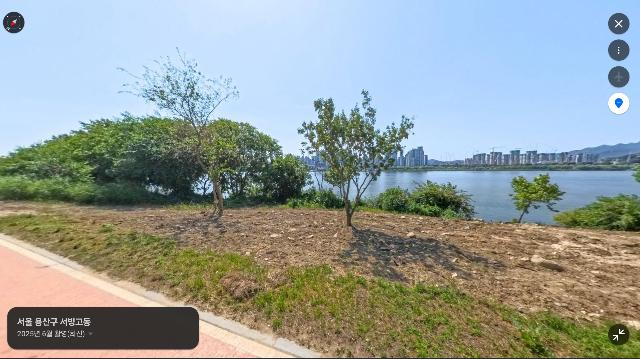other: (116, 47, 241, 219), (297, 89, 418, 229), (509, 173, 567, 224)
